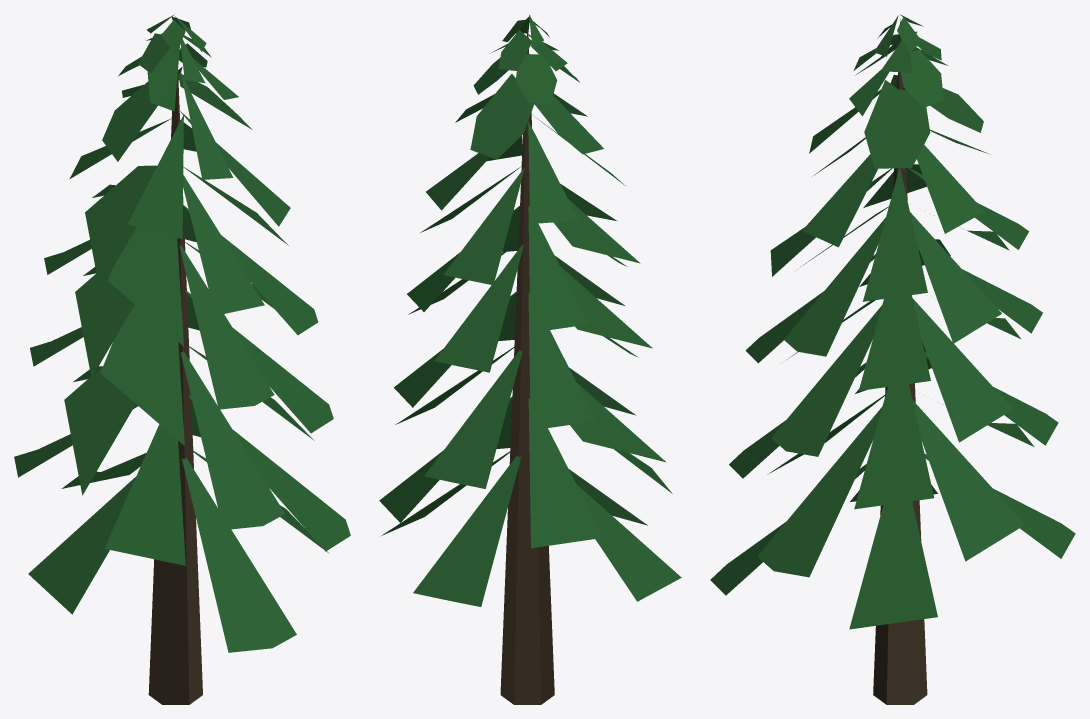
The model's file is Snowy Forest Tree 3 (Low Quality).fbx.
The picture shows the model from 3 angles, left to right: view 1: azimuth 30°, elevation 25°; view 2: azimuth 150°, elevation 25°; view 3: azimuth 270°, elevation 25°; orthographic projection.
Visible parts, largest first — view 1: Cylinder.019; view 2: Cylinder.019; view 3: Cylinder.019.
Boxes of the visible parts, box(x1,y1,x2,y2) form: Cylinder.019: box(14, 14, 350, 704); Cylinder.019: box(379, 14, 681, 704); Cylinder.019: box(710, 14, 1075, 704).
Bounding box in the file's own units: 777 × 1963 × 956.
